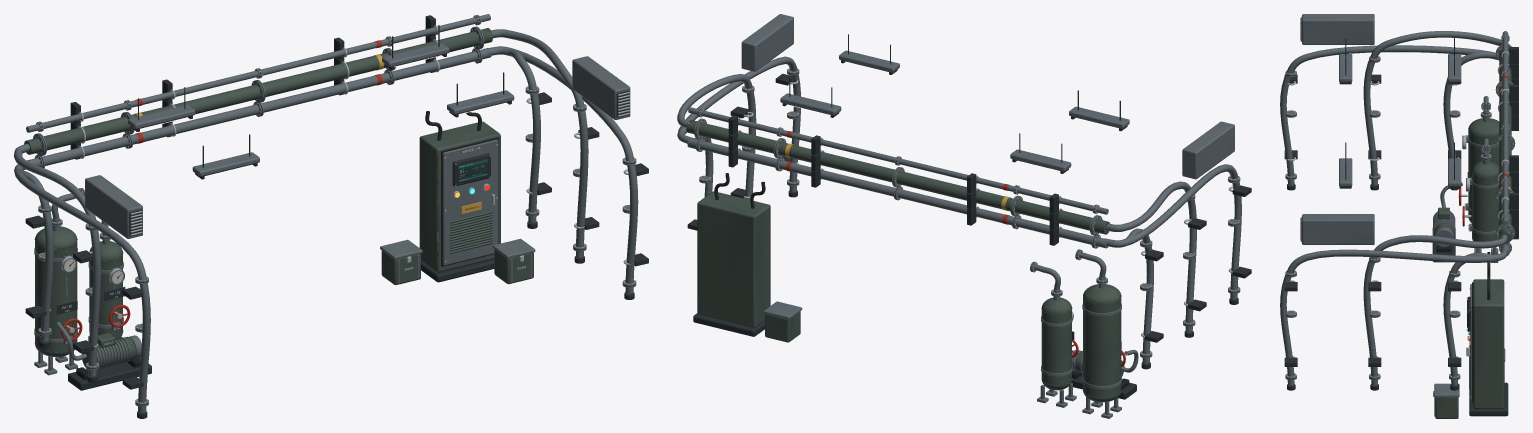
File: industrial-props.gltf
3 renders of one model, left to right at view 1: azimuth 30°, elevation 25°; view 2: azimuth 150°, elevation 25°; view 3: azimuth 270°, elevation 25°, orthographic. The views are drawn at different scales.
Visible parts, largest first — view 1: Props / Brushed gunmetal | baked machining and sparse oxidat, Props / Worn green enamel | layered edge wear and grease, Props / Black oxide steel, Props / Machined bevels and bolt heads, Props / Rubber seals, Props / Valve red enamel; view 2: Props / Brushed gunmetal | baked machining and sparse oxidat, Props / Worn green enamel | layered edge wear and grease, Props / Black oxide steel, Props / Machined bevels and bolt heads, Props / Rubber seals; view 3: Props / Brushed gunmetal | baked machining and sparse oxidat, Props / Worn green enamel | layered edge wear and grease, Props / Black oxide steel, Props / Machined bevels and bolt heads, Props / Rubber seals.
Boxes of the visible parts, box(x1,y1,x2,y2) form: Props / Brushed gunmetal | baked machining and sparse oxidat: box(14, 14, 638, 412); Props / Worn green enamel | layered edge wear and grease: box(24, 28, 533, 367); Props / Black oxide steel: box(25, 15, 648, 418); Props / Machined bevels and bolt heads: box(34, 15, 635, 403); Props / Rubber seals: box(39, 16, 635, 405); Props / Valve red enamel: box(61, 40, 382, 340); Props / Brushed gunmetal | baked machining and sparse oxidat: box(677, 14, 1241, 418); Props / Worn green enamel | layered edge wear and grease: box(686, 120, 1124, 402); Props / Black oxide steel: box(687, 34, 1251, 399); Props / Machined bevels and bolt heads: box(697, 68, 1239, 355); Props / Rubber seals: box(695, 72, 1239, 389); Props / Brushed gunmetal | baked machining and sparse oxidat: box(1280, 14, 1515, 416); Props / Worn green enamel | layered edge wear and grease: box(1434, 44, 1511, 418); Props / Black oxide steel: box(1284, 17, 1518, 416); Props / Machined bevels and bolt heads: box(1286, 18, 1513, 397); Props / Rubber seals: box(1286, 34, 1507, 402).
Size of the model in its own units: 13.88 by 6.81 by 6.58.
16 materials, 5 textured.
